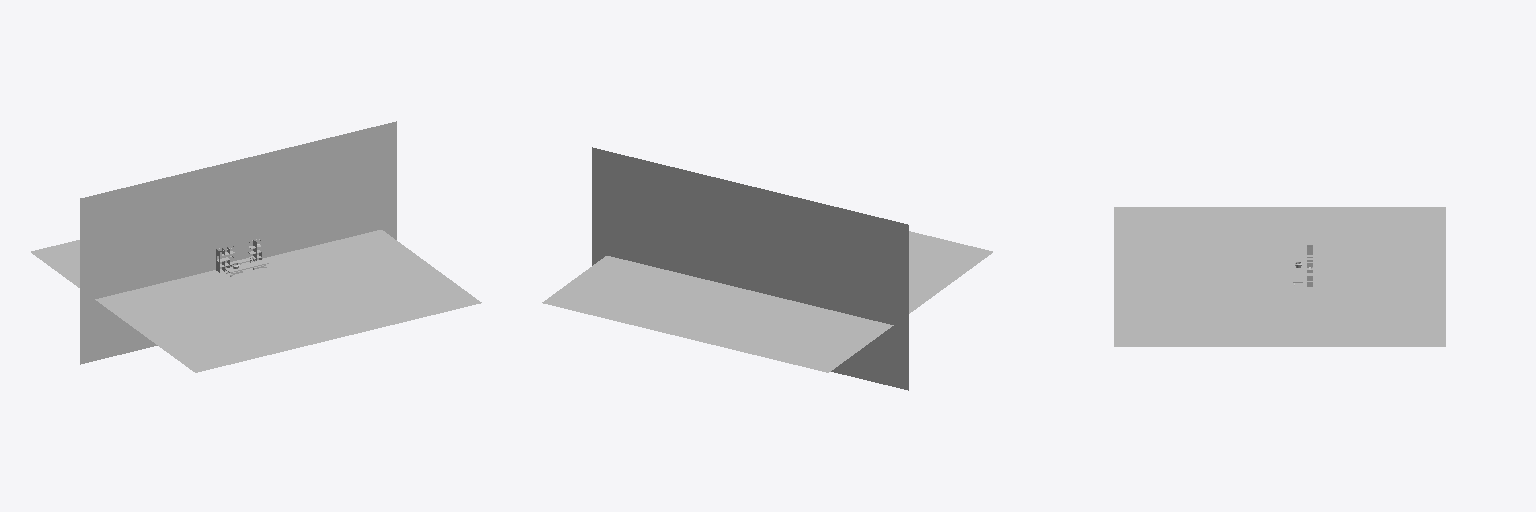
The picture shows the model from 3 angles: view 1: azimuth 30°, elevation 25°; view 2: azimuth 150°, elevation 25°; view 3: azimuth 270°, elevation 25°; orthographic projection.
Parts seen in each view (by area): view 1: Plane.001, Plane_Plane.002, n_moved; view 2: Plane.001, Plane_Plane.002; view 3: Plane_Plane.002.
Part boxes in pixels (x1,y1,x2,y2): Plane.001: (80, 121, 396, 364); Plane_Plane.002: (31, 230, 481, 372); n_moved: (216, 239, 261, 272); Plane.001: (592, 147, 908, 390); Plane_Plane.002: (542, 231, 992, 372); Plane_Plane.002: (1114, 207, 1445, 346).
Bounding box in the file's own units: 61.95 × 30.98 × 56.03.